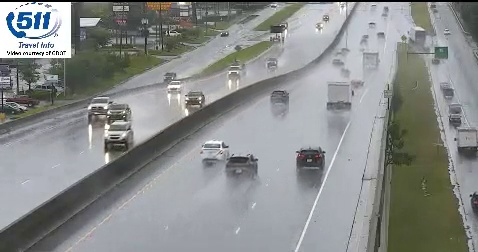car: (226, 155, 258, 176), (297, 146, 325, 169), (201, 141, 229, 162), (270, 90, 290, 105)
small-truck: (326, 82, 352, 112)
